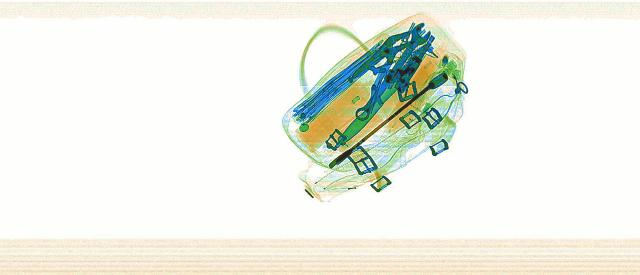Gun: (376, 33, 446, 88)
Knife: (329, 42, 437, 143)
Wrench: (342, 20, 446, 121)
